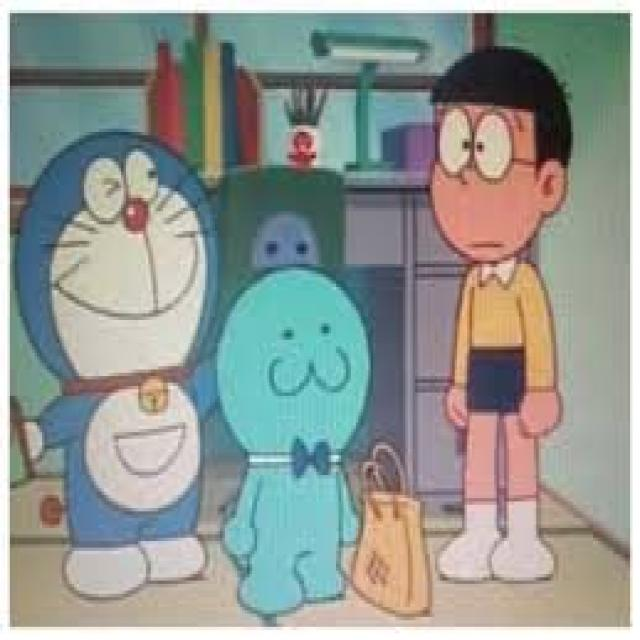doraemon: (12, 122, 215, 426)
nobita: (418, 39, 583, 297)
